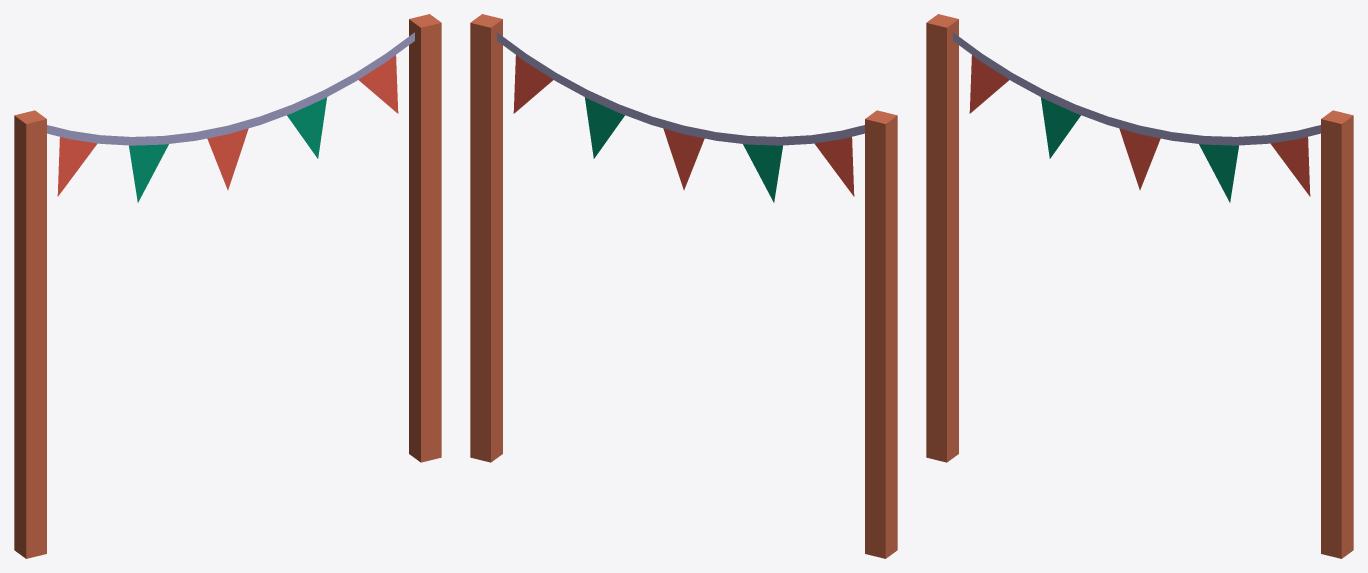
The model's file is Flags.fbx.
3 views of the same model, side by side, from view 1: azimuth 30°, elevation 25°; view 2: azimuth 150°, elevation 25°; view 3: azimuth 330°, elevation 25° (orthographic).
Parts seen in each view (by area): view 1: mergedBlocks; view 2: mergedBlocks; view 3: mergedBlocks.
Boxes of the visible parts, x1,y1,x2,y2 form: mergedBlocks: [14, 14, 441, 558]; mergedBlocks: [470, 14, 897, 558]; mergedBlocks: [926, 14, 1353, 558].
Size of the model in its own units: 10 by 10 by 0.5.
